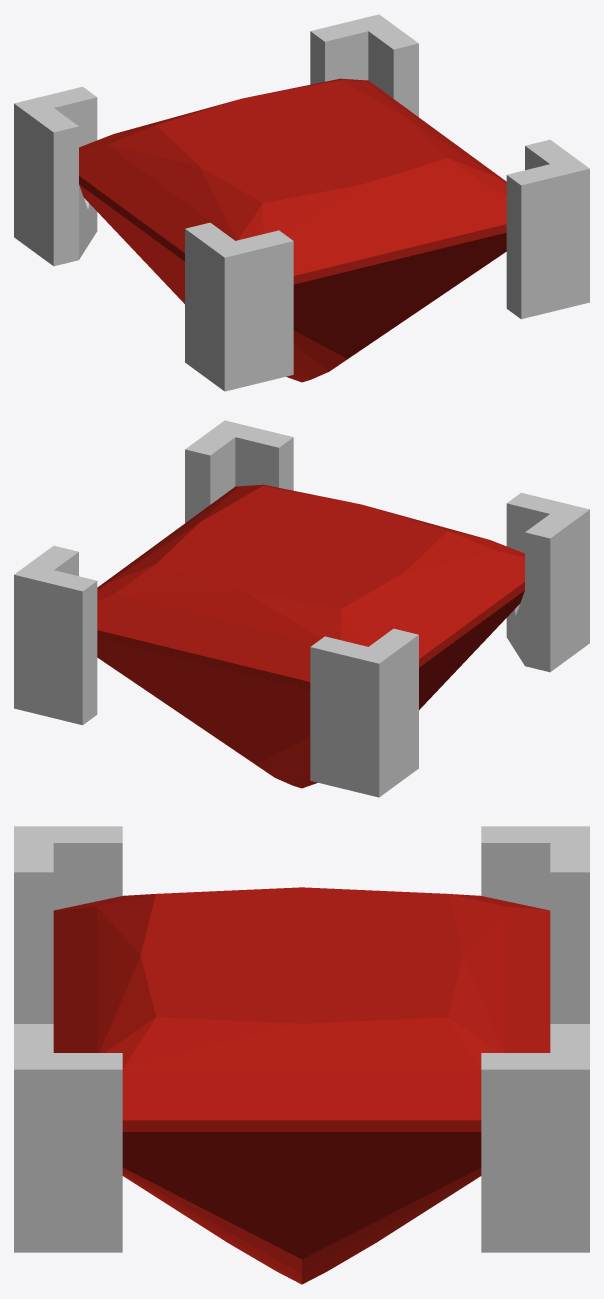
The model's file is ruby_prongs.fbx.
3 views of the same model, one above another, from view 1: azimuth 30°, elevation 25°; view 2: azimuth 150°, elevation 25°; view 3: azimuth 270°, elevation 25° (orthographic). The views are drawn at different scales.
Visible parts, largest first — view 1: Princess, Princess Prongs; view 2: Princess, Princess Prongs; view 3: Princess, Princess Prongs.
Boxes of the visible parts, bbox=[...] form: Princess: bbox=[79, 78, 506, 382]; Princess Prongs: bbox=[14, 14, 589, 391]; Princess: bbox=[97, 484, 524, 788]; Princess Prongs: bbox=[14, 420, 589, 797]; Princess: bbox=[53, 887, 550, 1284]; Princess Prongs: bbox=[14, 826, 589, 1252].
Bounding box in the file's own units: 348 × 225 × 348.
